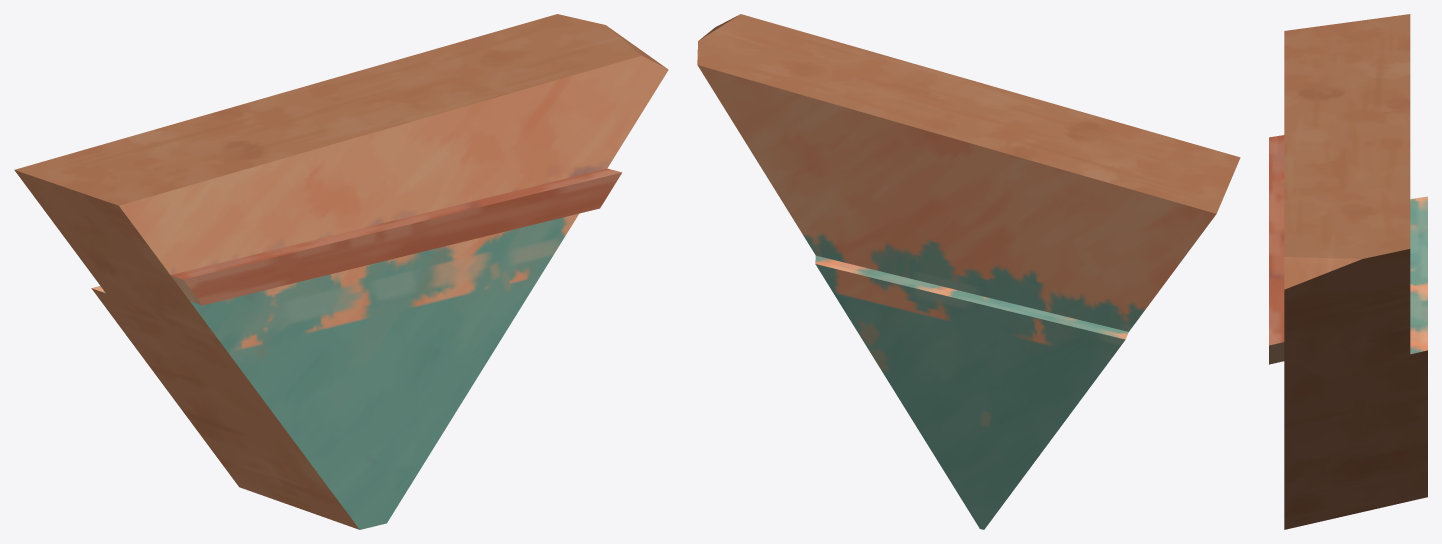
Rendered from wall2_plain_s11.fbx.
3 renders of one model, left to right at view 1: azimuth 30°, elevation 25°; view 2: azimuth 150°, elevation 25°; view 3: azimuth 270°, elevation 25°, orthographic. The views are drawn at different scales.
Visible parts, largest first — view 1: wall2_plain_s11; view 2: wall2_plain_s11; view 3: wall2_plain_s11.
Part boxes in pixels (x1=…): wall2_plain_s11: x1=14, y1=14, x2=668, y2=529; wall2_plain_s11: x1=697, y1=14, x2=1240, y2=529; wall2_plain_s11: x1=1269, y1=14, x2=1427, y2=529.
Bounding box in the file's own units: 5.25 × 3.45 × 1.26.
